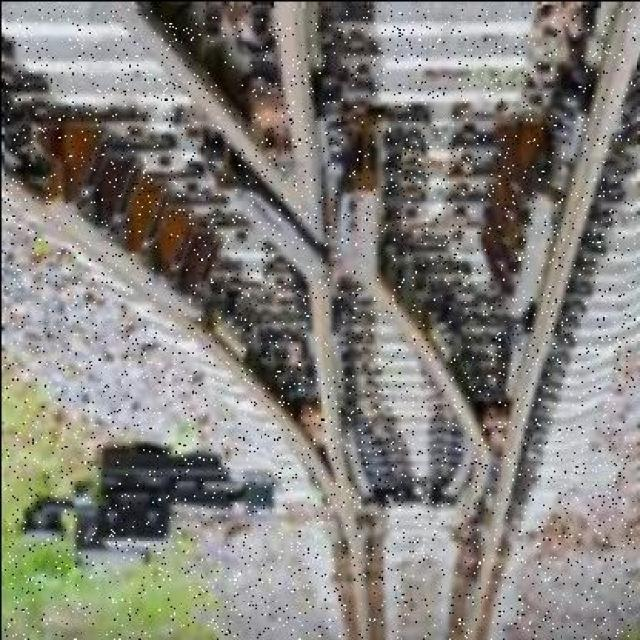rail: (5, 9, 635, 638)
